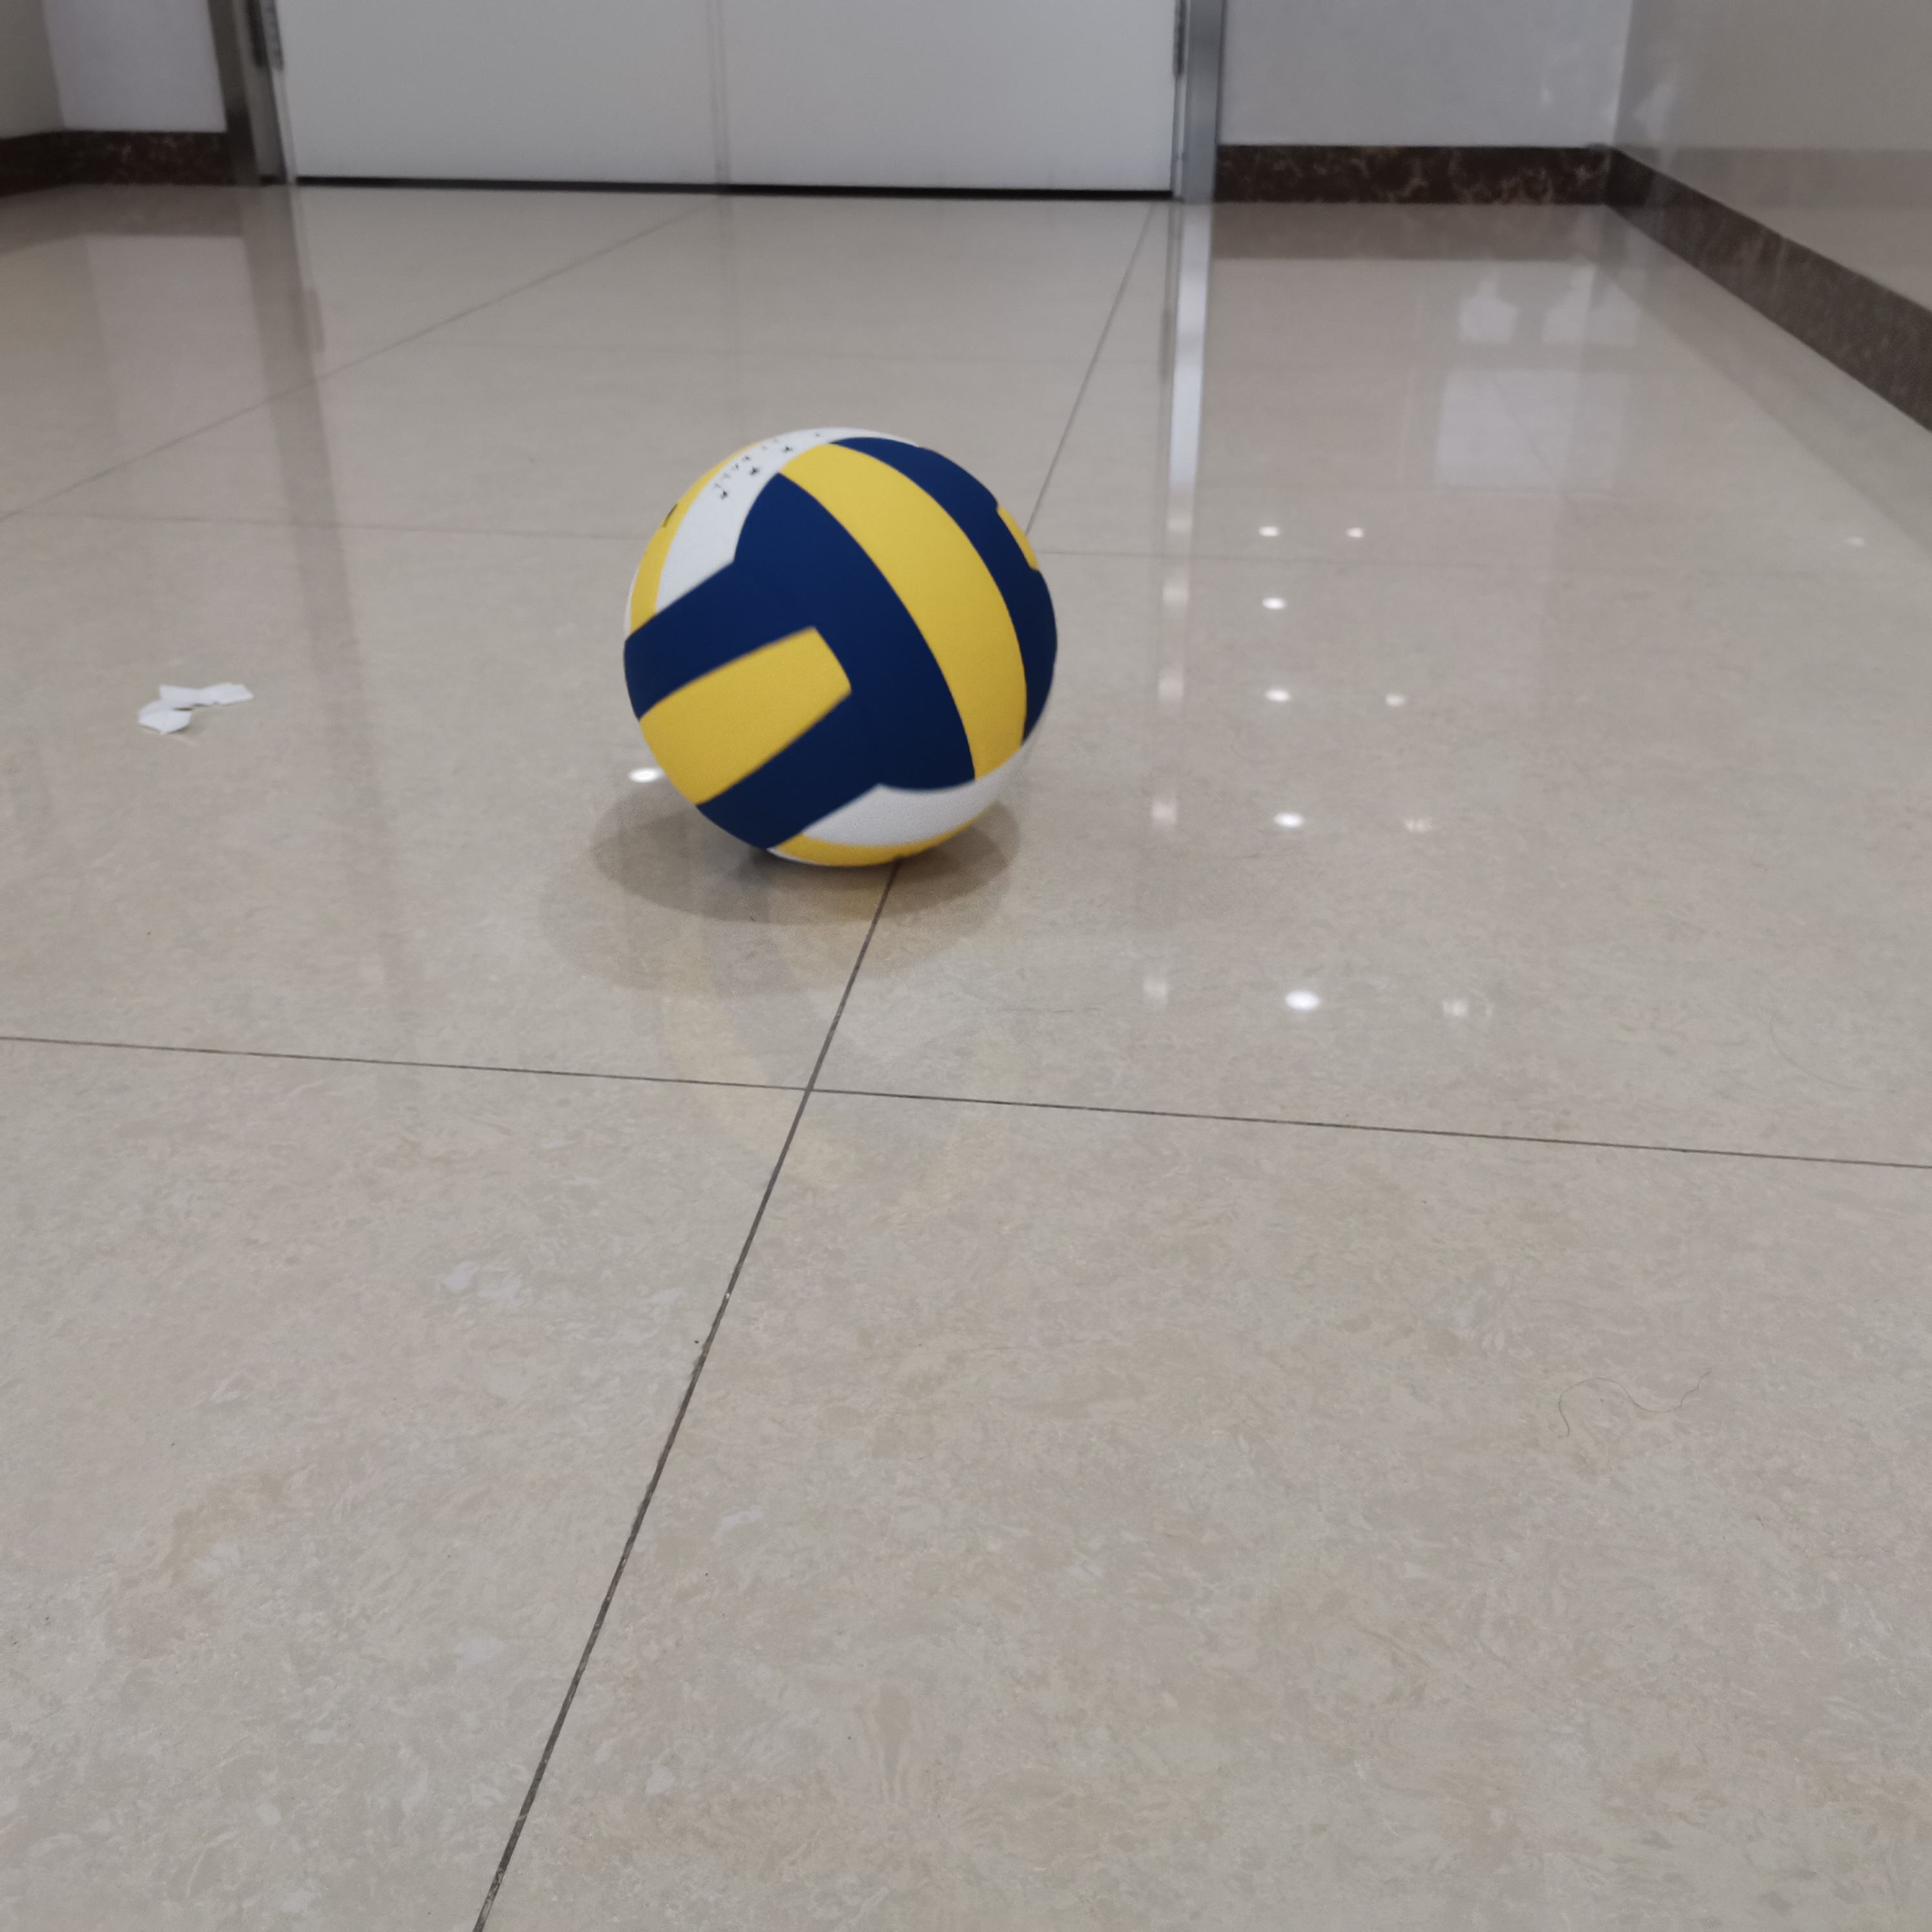volleyball: (623, 426, 1060, 865)
